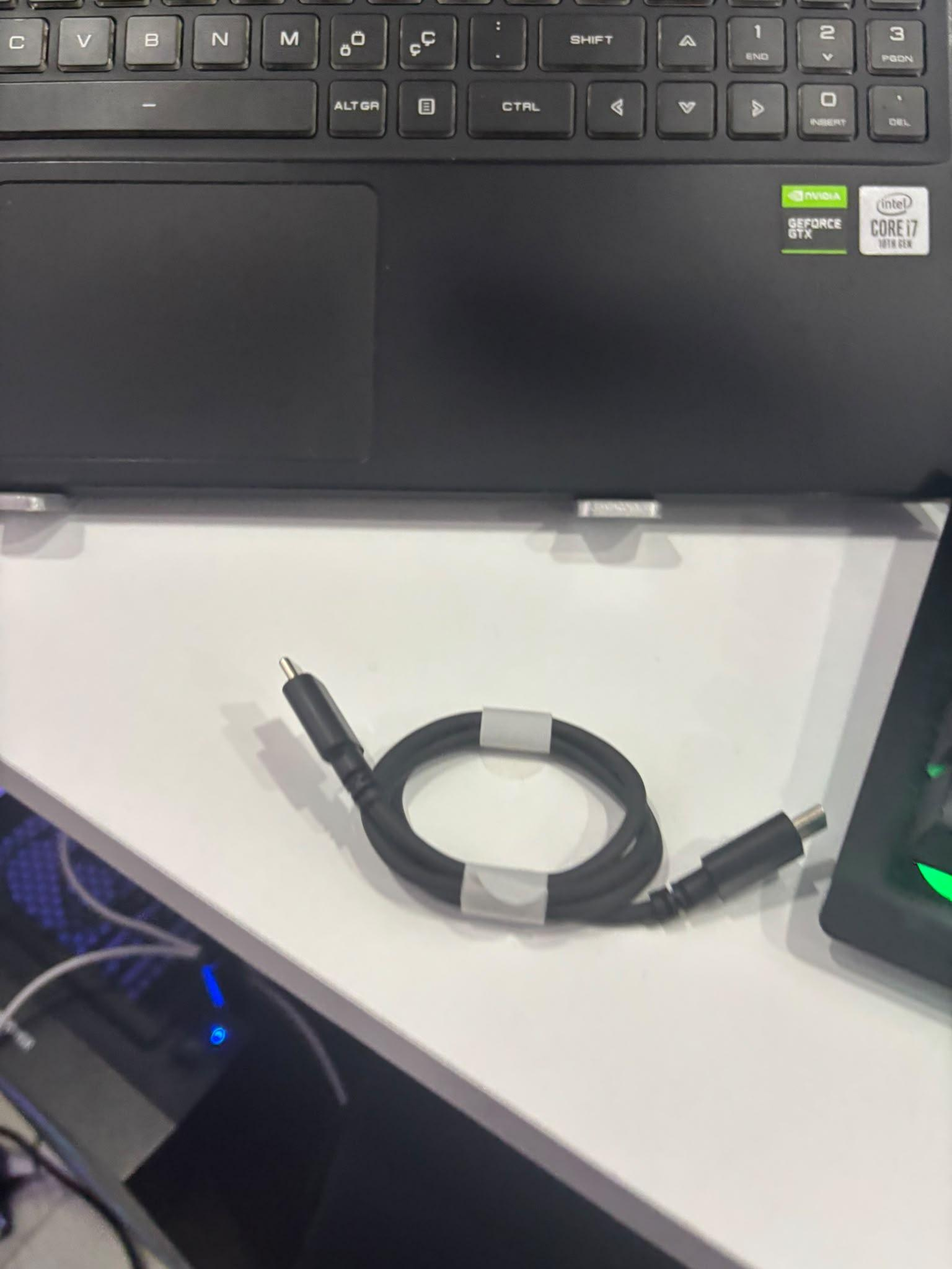cable: (278, 655, 829, 931), (0, 836, 347, 1109)
keyboard: (0, 0, 951, 163)
